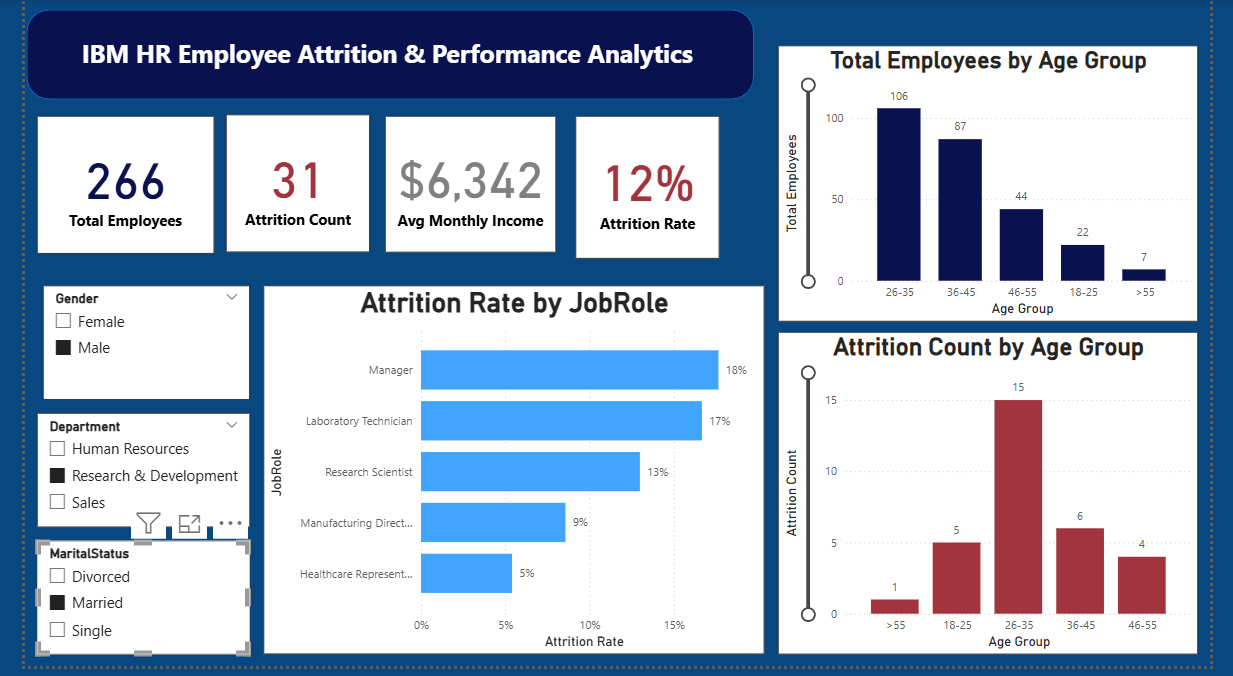

The dashboard page shown, as its layout file describes it:
{"tool":"powerbi","page":{"name":"Page 1","canvas":[1280,720],"ordinal":0},"visuals":[{"type":"clusteredColumnChart","fields":{"Category":["Table.Age Group"],"Y":["_Measures.Total Employees"]},"box":[812.9,50.2,453.4,297.9],"z":0},{"type":"card","fields":{"Values":["_Measures.Total Employees"]},"box":[13,126.3,191.1,149],"z":1000},{"type":"card","fields":{"Values":["_Measures.Attrition Count"]},"box":[217,124.7,155.4,149],"z":2000},{"type":"card","fields":{"Values":["_Measures.Attrition Rate"]},"box":[594.3,126.3,155.4,153.8],"z":3000},{"type":"card","fields":{"Values":["_Measures.Avg Monthly Income"]},"box":[388.6,126.3,184.6,147.3],"z":4000},{"type":"clusteredBarChart","fields":{"Category":["WA_Fn-UseC_-HR-Employee-Attrition.JobRole"],"Y":["_Measures.Attrition Rate"]},"box":[257.5,309.3,540.8,398.3],"z":5000},{"type":"clusteredColumnChart","fields":{"Category":["Table.Age Group"],"Y":["_Measures.Attrition Count"]},"box":[812.9,359.5,453.4,348.1],"z":6000},{"type":"slicer","fields":{"Values":["WA_Fn-UseC_-HR-Employee-Attrition.Department"]},"box":[13,446.9,229.9,123.1],"z":7000},{"type":"slicer","fields":{"Values":["WA_Fn-UseC_-HR-Employee-Attrition.Gender"]},"box":[19.4,309.3,223.5,123.1],"z":8000},{"type":"slicer","fields":{"Values":["WA_Fn-UseC_-HR-Employee-Attrition.MaritalStatus"]},"box":[13,584.5,229.9,123.1],"z":9000},{"type":"shape","box":[1.6,11.3,785.3,97.2],"z":10000},{"type":"textbox","box":[19.4,30.8,743.2,56.7],"z":11000}]}

Visuals, with their boxes in screenshot pixels (x1, y1, x2, y2), scaled from the page's 1280x720 canvas onto the 1233x676 screenshot:
clusteredColumnChart - Table.Age Group x _Measures.Total Employees: left=783, top=47, right=1220, bottom=327
card - _Measures.Total Employees: left=13, top=119, right=197, bottom=258
card - _Measures.Attrition Count: left=209, top=117, right=359, bottom=257
card - _Measures.Attrition Rate: left=572, top=119, right=722, bottom=263
card - _Measures.Avg Monthly Income: left=374, top=119, right=552, bottom=257
clusteredBarChart - WA_Fn-UseC_-HR-Employee-Attrition.JobRole x _Measures.Attrition Rate: left=248, top=290, right=769, bottom=664
clusteredColumnChart - Table.Age Group x _Measures.Attrition Count: left=783, top=338, right=1220, bottom=664
slicer - WA_Fn-UseC_-HR-Employee-Attrition.Department: left=13, top=420, right=234, bottom=535
slicer - WA_Fn-UseC_-HR-Employee-Attrition.Gender: left=19, top=290, right=234, bottom=406
slicer - WA_Fn-UseC_-HR-Employee-Attrition.MaritalStatus: left=13, top=549, right=234, bottom=664
shape: left=2, top=11, right=758, bottom=102
textbox: left=19, top=29, right=735, bottom=82
